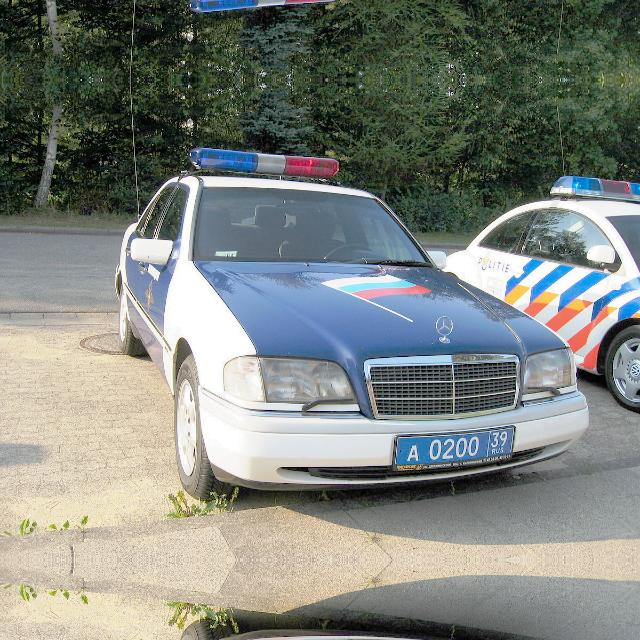police: (388, 424, 516, 472)
